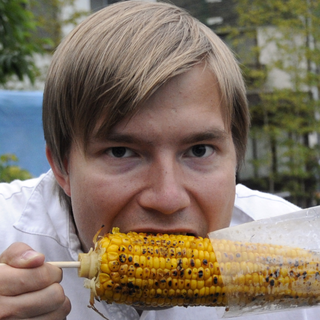eye: (96, 140, 147, 164), (176, 138, 222, 164)
